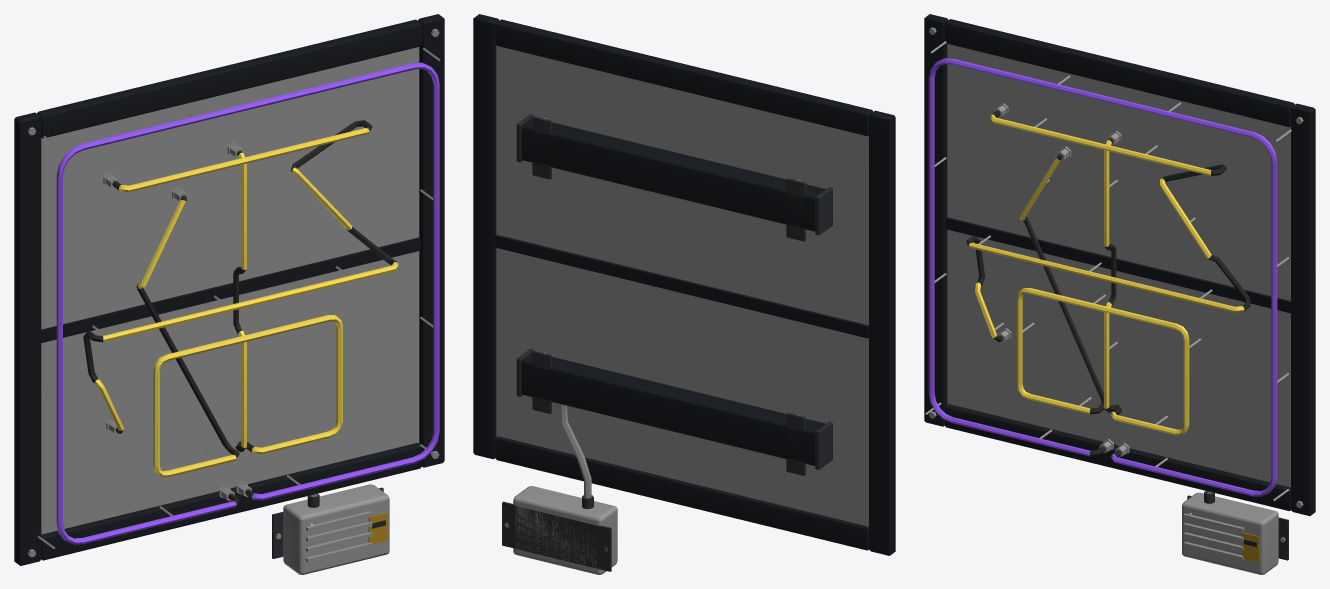
Rendered from Neon_Glyph_C.fbx.
3 renders of one model, left to right at view 1: azimuth 30°, elevation 25°; view 2: azimuth 150°, elevation 25°; view 3: azimuth 330°, elevation 25°, orthographic. The views are drawn at different scales.
Visible parts, largest first — view 1: Neon_Glyph_C_LOD0; view 2: Neon_Glyph_C_LOD0; view 3: Neon_Glyph_C_LOD0.
Part boxes in pixels (box(x1,y1,x2,y2)): Neon_Glyph_C_LOD0: box(14, 14, 444, 574); Neon_Glyph_C_LOD0: box(473, 14, 895, 574); Neon_Glyph_C_LOD0: box(924, 14, 1315, 574).
Size of what is drawn, in the model's own units: 1.12 by 1.32 by 0.1695.
